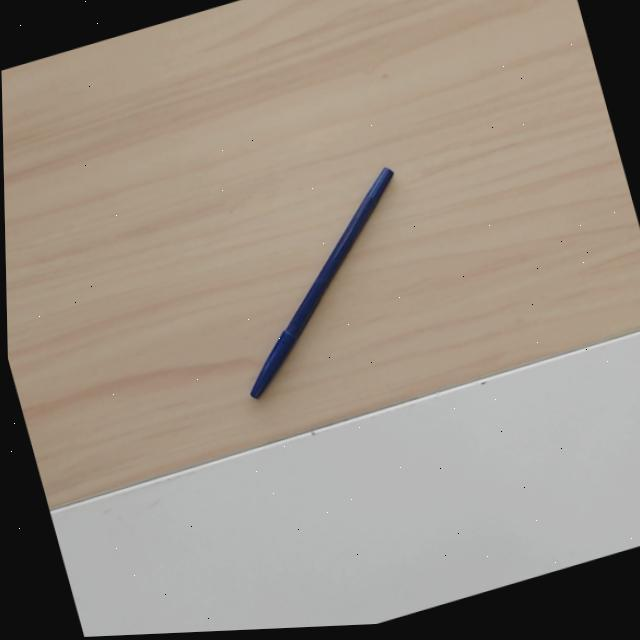Pulpen-Biru: (245, 162, 395, 403)
